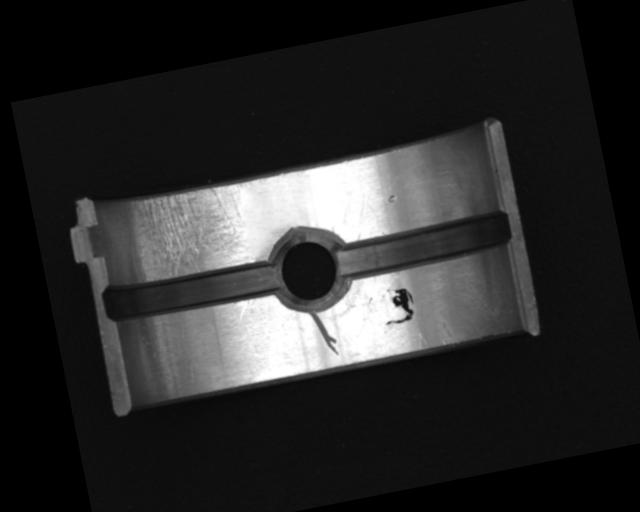blot: (378, 284, 419, 327)
bruise: (385, 193, 399, 206)
gap: (329, 204, 514, 285), (100, 254, 279, 327)
hole: (263, 221, 357, 316)
nick: (309, 306, 341, 360), (234, 298, 254, 320)
scratch: (119, 180, 256, 285)
